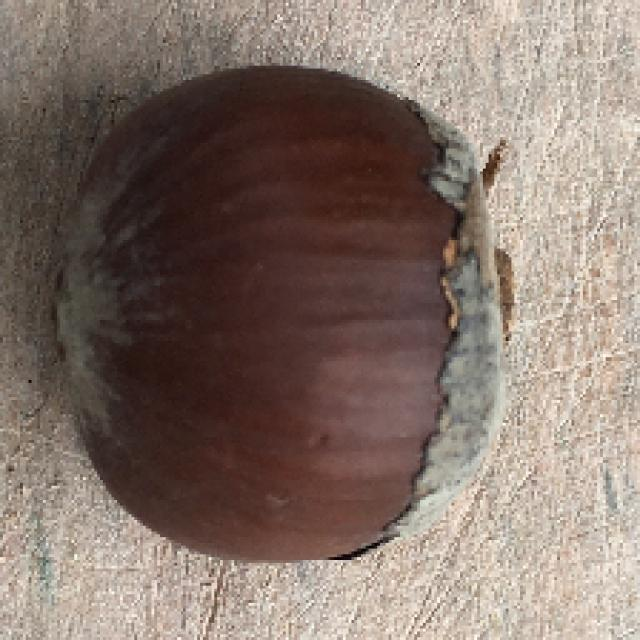damagedHazelnut: (39, 48, 524, 574)
